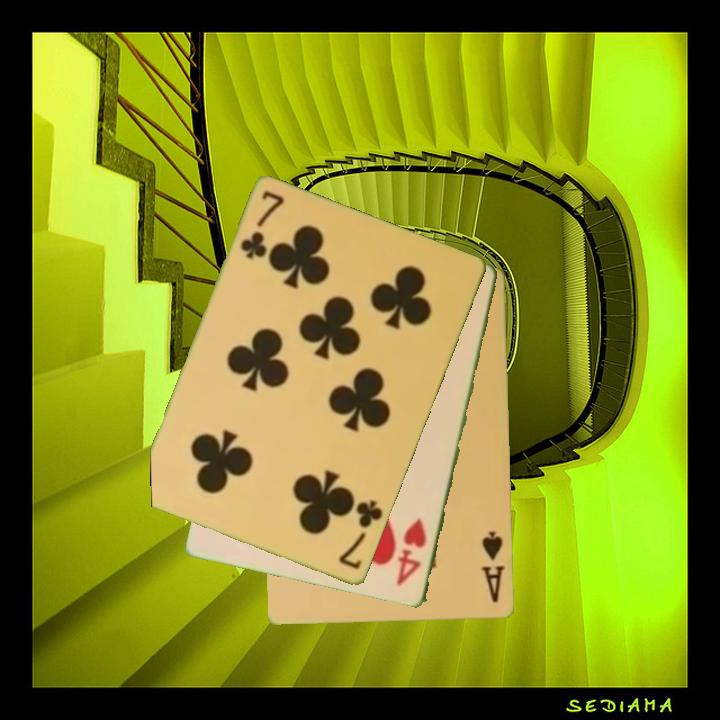4h: (393, 515, 430, 590)
7c: (335, 497, 386, 573), (237, 188, 288, 263)
As: (478, 528, 508, 606)
